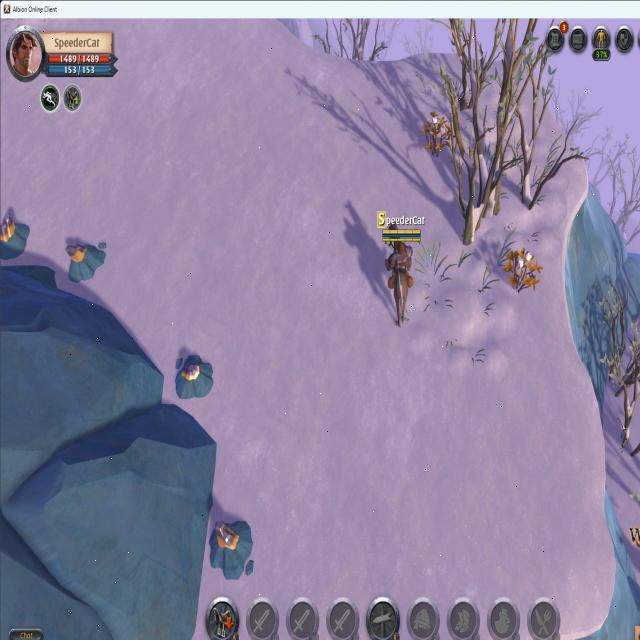copper: (209, 513, 256, 583), (174, 354, 216, 403), (61, 241, 108, 282), (0, 213, 33, 265)
cotton: (502, 247, 544, 296), (419, 108, 453, 156)
